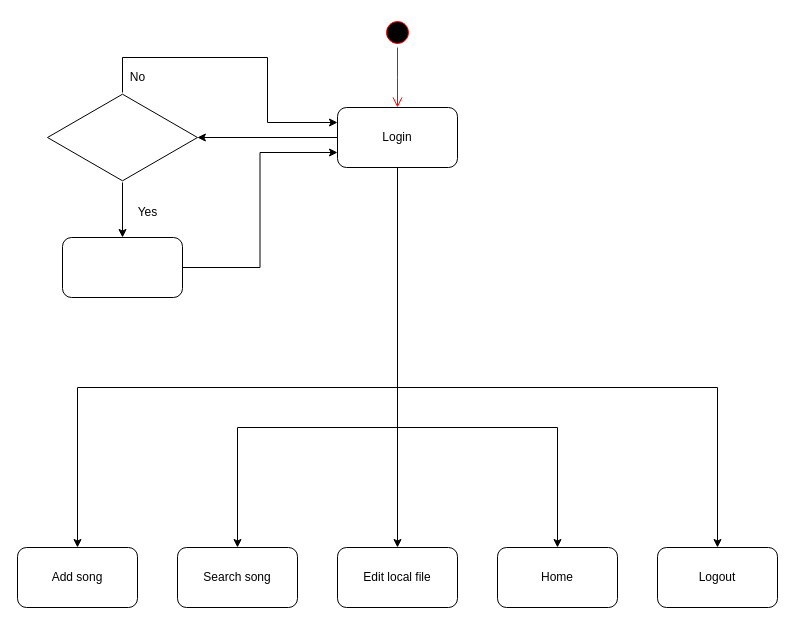
This 795x625 diagram has some shape labels left out. Each missing label, with the centre of its shape:
"New Users ?" goes at (122,137).
"Sign Up" goes at (122,267).
